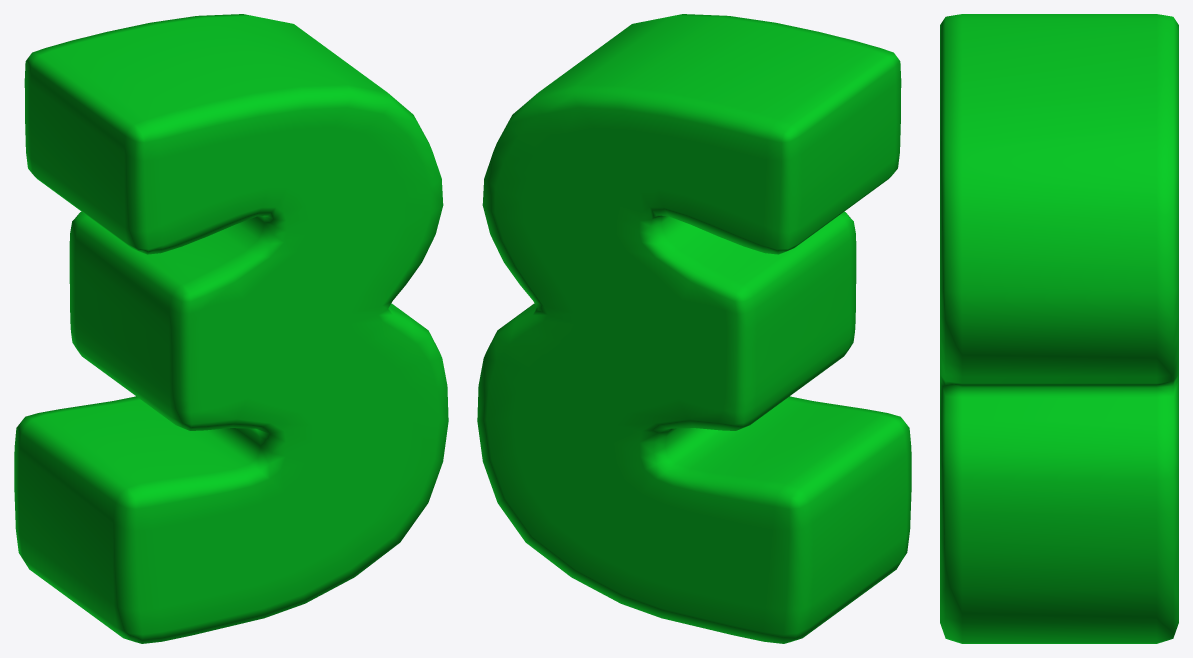
3 views of the same model, side by side, from view 1: azimuth 30°, elevation 25°; view 2: azimuth 150°, elevation 25°; view 3: azimuth 270°, elevation 25° (orthographic). The views are drawn at different scales.
Parts seen in each view (by area): view 1: A:Mesh3_numbers_0; view 2: A:Mesh3_numbers_0; view 3: A:Mesh3_numbers_0.
Part boxes in pixels (left/top/right/bottom): A:Mesh3_numbers_0: left=14, top=14, right=448, bottom=643; A:Mesh3_numbers_0: left=477, top=14, right=911, bottom=643; A:Mesh3_numbers_0: left=940, top=14, right=1178, bottom=643.
Bounding box in the file's own units: 22.52 × 34.05 × 13.53.
